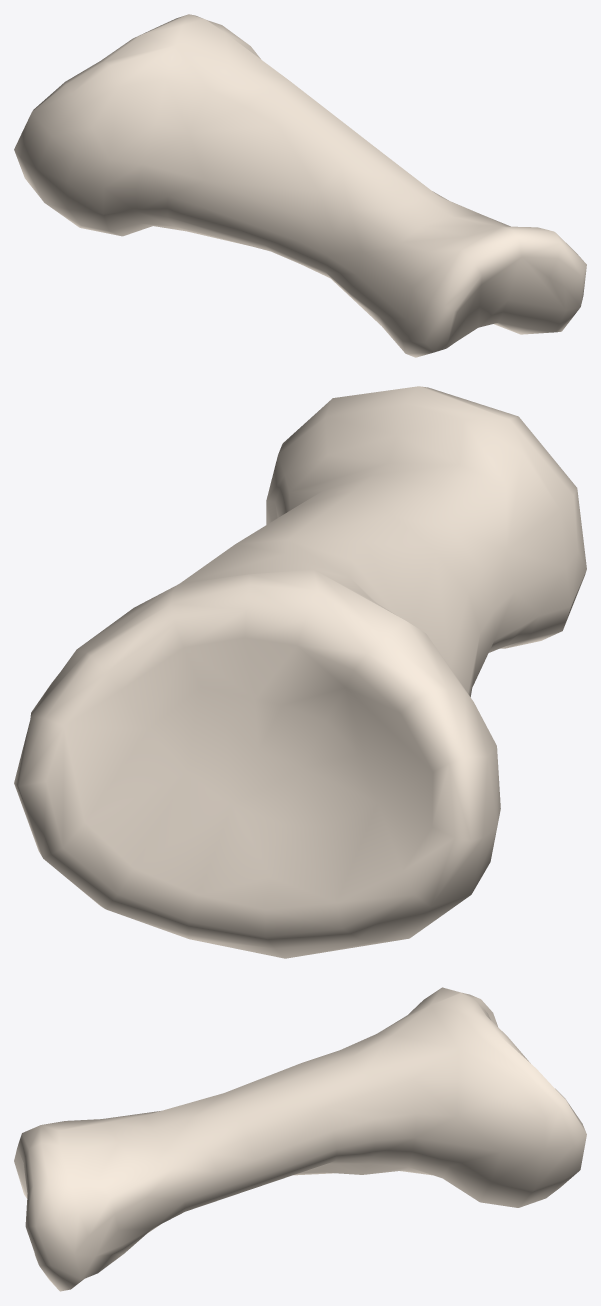
The model's file is left_toe_5_proximal.glb.
3 renders of one model, top to bottom at view 1: azimuth 30°, elevation 25°; view 2: azimuth 150°, elevation 25°; view 3: azimuth 270°, elevation 25°, orthographic. The views are drawn at different scales.
Parts seen in each view (by area): view 1: Proximal phalanx of fifth finger of foot.r; view 2: Proximal phalanx of fifth finger of foot.r; view 3: Proximal phalanx of fifth finger of foot.r.
Boxes of the visible parts, box(x1,y1,x2,y2) form: Proximal phalanx of fifth finger of foot.r: box(14, 14, 586, 357); Proximal phalanx of fifth finger of foot.r: box(14, 386, 586, 958); Proximal phalanx of fifth finger of foot.r: box(14, 987, 586, 1291).
Bounding box in the file's own units: 0.0109 × 0.00613 × 0.0163.
